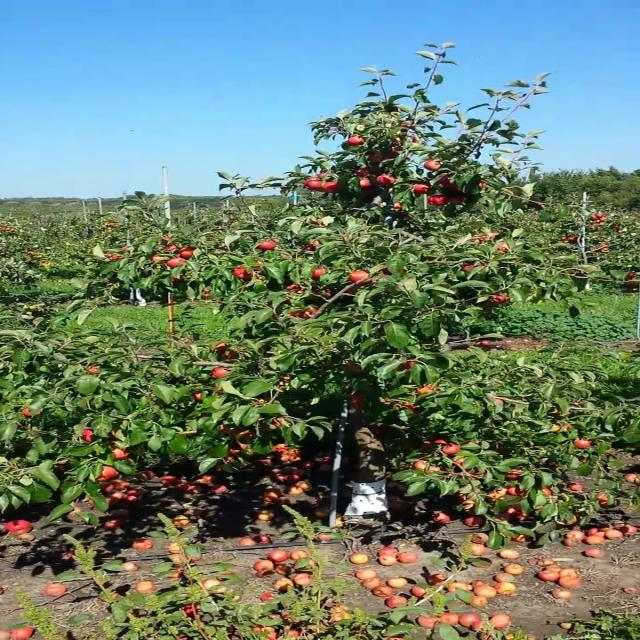apple: (216, 343, 237, 359), (97, 466, 117, 482), (217, 423, 243, 435), (388, 402, 414, 414), (484, 489, 508, 501), (415, 385, 440, 395), (506, 504, 525, 516), (322, 181, 340, 193), (234, 268, 254, 278), (349, 271, 369, 281), (350, 390, 364, 404), (292, 309, 316, 317), (594, 494, 610, 506), (213, 367, 231, 377), (413, 183, 431, 193), (348, 364, 366, 374), (495, 485, 510, 497), (560, 515, 580, 524), (305, 180, 322, 190), (429, 195, 446, 205), (414, 459, 431, 469), (378, 175, 396, 184), (568, 482, 586, 491), (166, 258, 186, 266), (112, 448, 128, 458), (241, 428, 257, 438), (424, 466, 444, 474), (463, 500, 476, 512), (511, 486, 526, 496), (180, 248, 194, 258), (425, 160, 439, 170), (442, 178, 456, 188), (444, 444, 458, 454), (82, 430, 93, 442), (419, 440, 432, 450), (260, 240, 276, 248), (348, 137, 364, 145), (574, 440, 590, 448), (307, 241, 319, 251), (448, 197, 464, 204), (455, 492, 469, 500), (359, 180, 372, 188), (314, 268, 324, 278), (497, 244, 509, 252), (384, 151, 396, 158), (491, 296, 505, 302), (435, 439, 449, 445), (22, 409, 32, 417), (501, 512, 511, 520), (357, 169, 370, 175), (508, 472, 520, 478), (543, 487, 552, 495), (494, 398, 506, 404), (167, 243, 177, 249), (89, 367, 99, 373), (369, 155, 379, 161), (394, 202, 401, 210), (456, 458, 464, 465), (478, 182, 487, 188), (273, 419, 280, 426), (409, 360, 415, 368), (287, 285, 299, 289), (153, 256, 163, 260), (316, 173, 326, 177), (465, 266, 472, 271), (195, 394, 199, 400), (298, 290, 304, 294), (35, 411, 39, 415)
